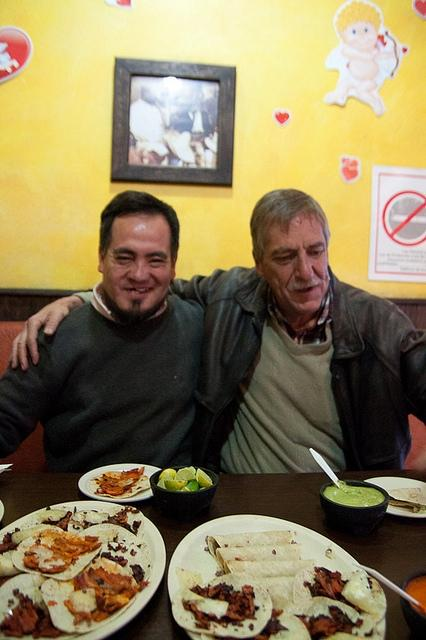lime: (174, 467, 196, 481), (158, 468, 177, 483), (164, 480, 188, 491), (196, 468, 212, 483), (157, 476, 173, 489), (186, 480, 200, 491), (180, 486, 190, 492)
